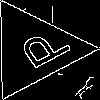P: (9, 24, 73, 76)
